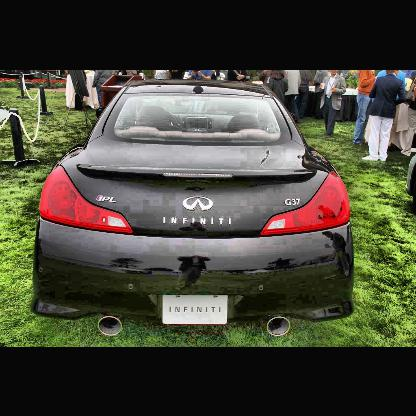Infiniti G Coupe IPL 2012: (31, 79, 356, 337)
